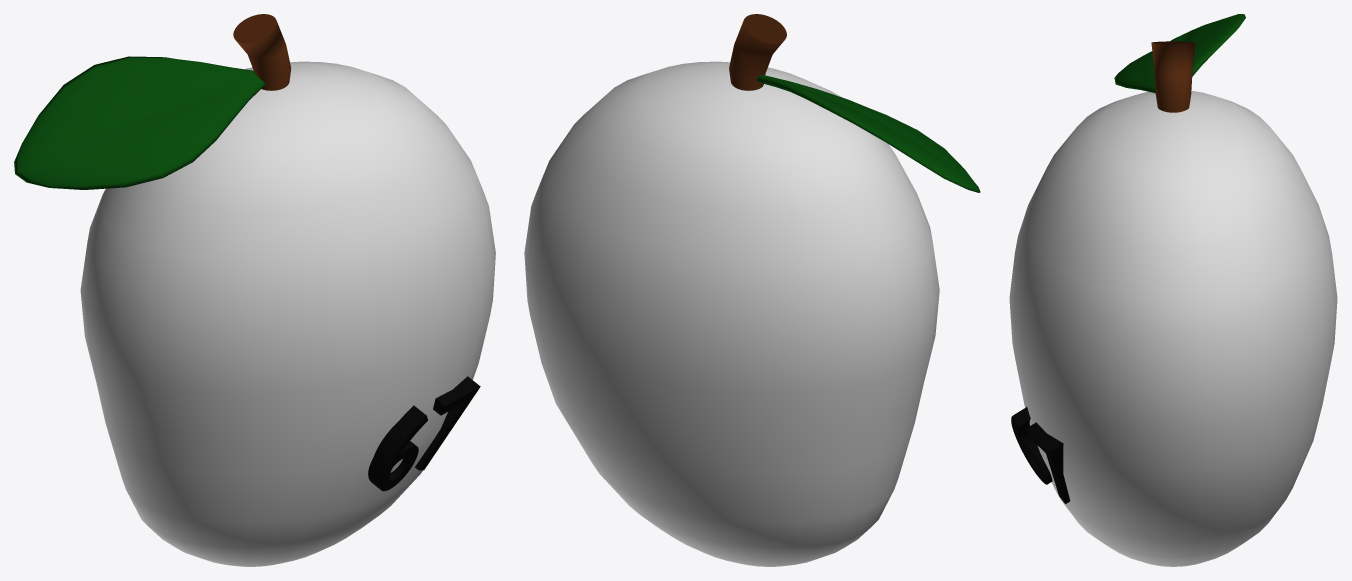
File: mango67.fbx
The picture shows the model from 3 angles, left to right: view 1: azimuth 30°, elevation 25°; view 2: azimuth 150°, elevation 25°; view 3: azimuth 270°, elevation 25°; orthographic projection. The views are drawn at different scales.
Visible parts, largest first — view 1: Plane, Text; view 2: Plane; view 3: Plane, Text.
Part boxes in pixels (bbox=[...]): Plane: bbox=[14, 14, 495, 566]; Text: bbox=[368, 376, 480, 491]; Plane: bbox=[524, 14, 980, 566]; Plane: bbox=[1009, 14, 1337, 566]; Text: bbox=[1011, 407, 1070, 503].
Size of the model in its own units: 377 by 429 by 249.
